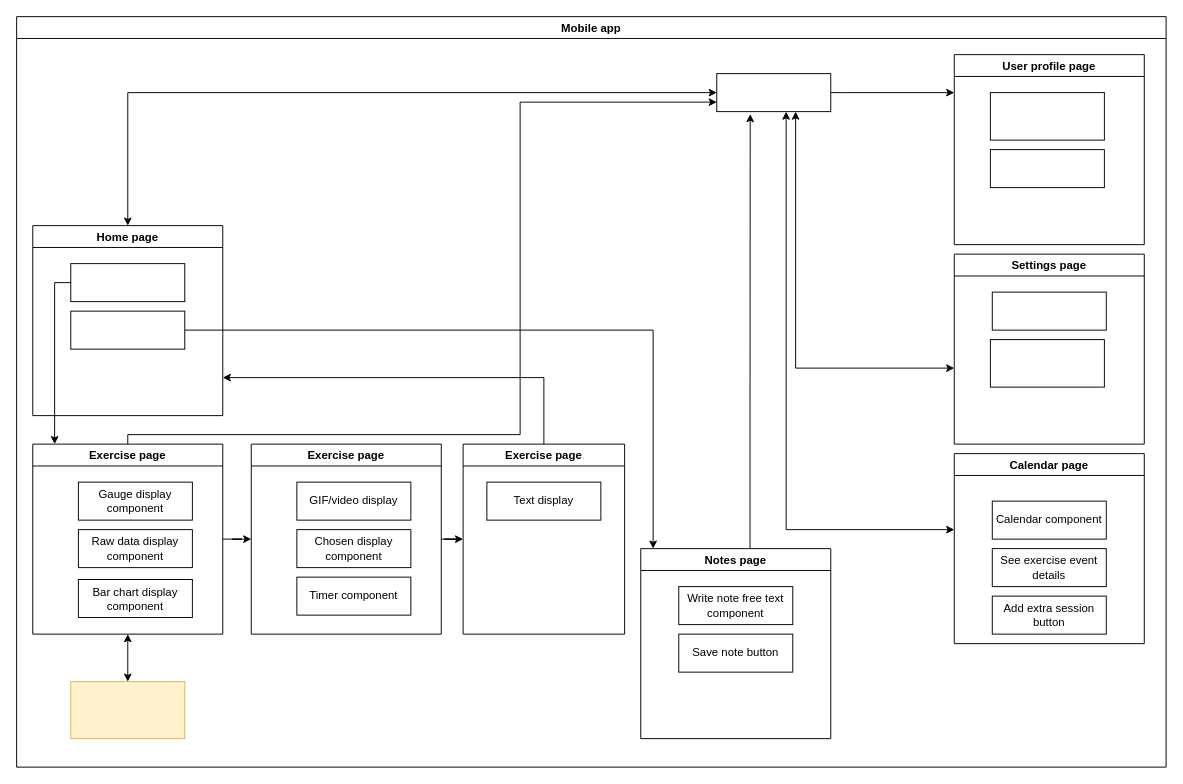
Some shapes in this 1183 by 784 pixel diagram are drawn without their labels. The shapes that lost their labels are listed below. From the top down, each one's centre as x and y in pixels, then its label:
At (x=773, y=92): "Navigation bar component".
At (x=1046, y=116): "See results of all exercise sessions button".
At (x=1046, y=168): "See all notes button".
At (x=127, y=282): "Start exercise session button".
At (x=127, y=329): "Add notes button".
At (x=1048, y=310): "Change gif settings button".
At (x=1046, y=363): "Change notification settings sliders".
At (x=127, y=710): "Delsys API".
